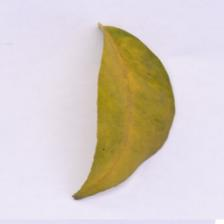greening: (88, 36, 172, 160)
